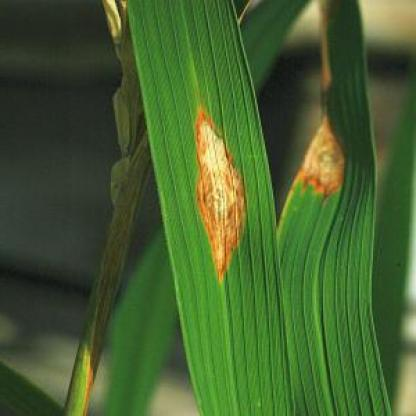Rice blast: (195, 99, 252, 291), (294, 98, 356, 206)
